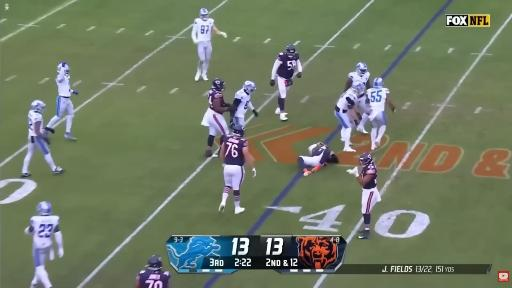Helmet: (146, 255, 162, 270), (36, 201, 51, 216), (31, 100, 45, 113), (360, 153, 373, 166), (351, 81, 364, 94), (213, 78, 225, 90), (58, 62, 69, 75), (356, 63, 367, 76), (243, 81, 255, 92), (233, 125, 244, 137), (199, 8, 208, 20), (286, 44, 295, 56), (374, 78, 383, 88)
Jersey: (31, 215, 59, 249), (224, 136, 248, 166), (277, 53, 299, 79), (138, 270, 170, 287), (367, 88, 389, 111), (194, 19, 214, 41), (235, 89, 250, 118), (337, 89, 357, 110), (28, 110, 43, 138), (209, 88, 225, 114), (362, 162, 377, 189), (312, 145, 331, 165), (56, 73, 71, 97), (349, 72, 370, 86)
Player: (219, 125, 256, 214), (22, 100, 64, 177), (25, 202, 63, 287), (348, 153, 381, 238), (45, 62, 78, 140), (192, 8, 227, 81), (270, 45, 302, 121), (202, 78, 231, 157), (367, 78, 395, 150), (335, 82, 364, 151), (298, 143, 338, 176), (231, 81, 258, 127), (135, 255, 170, 287), (357, 91, 369, 133)
